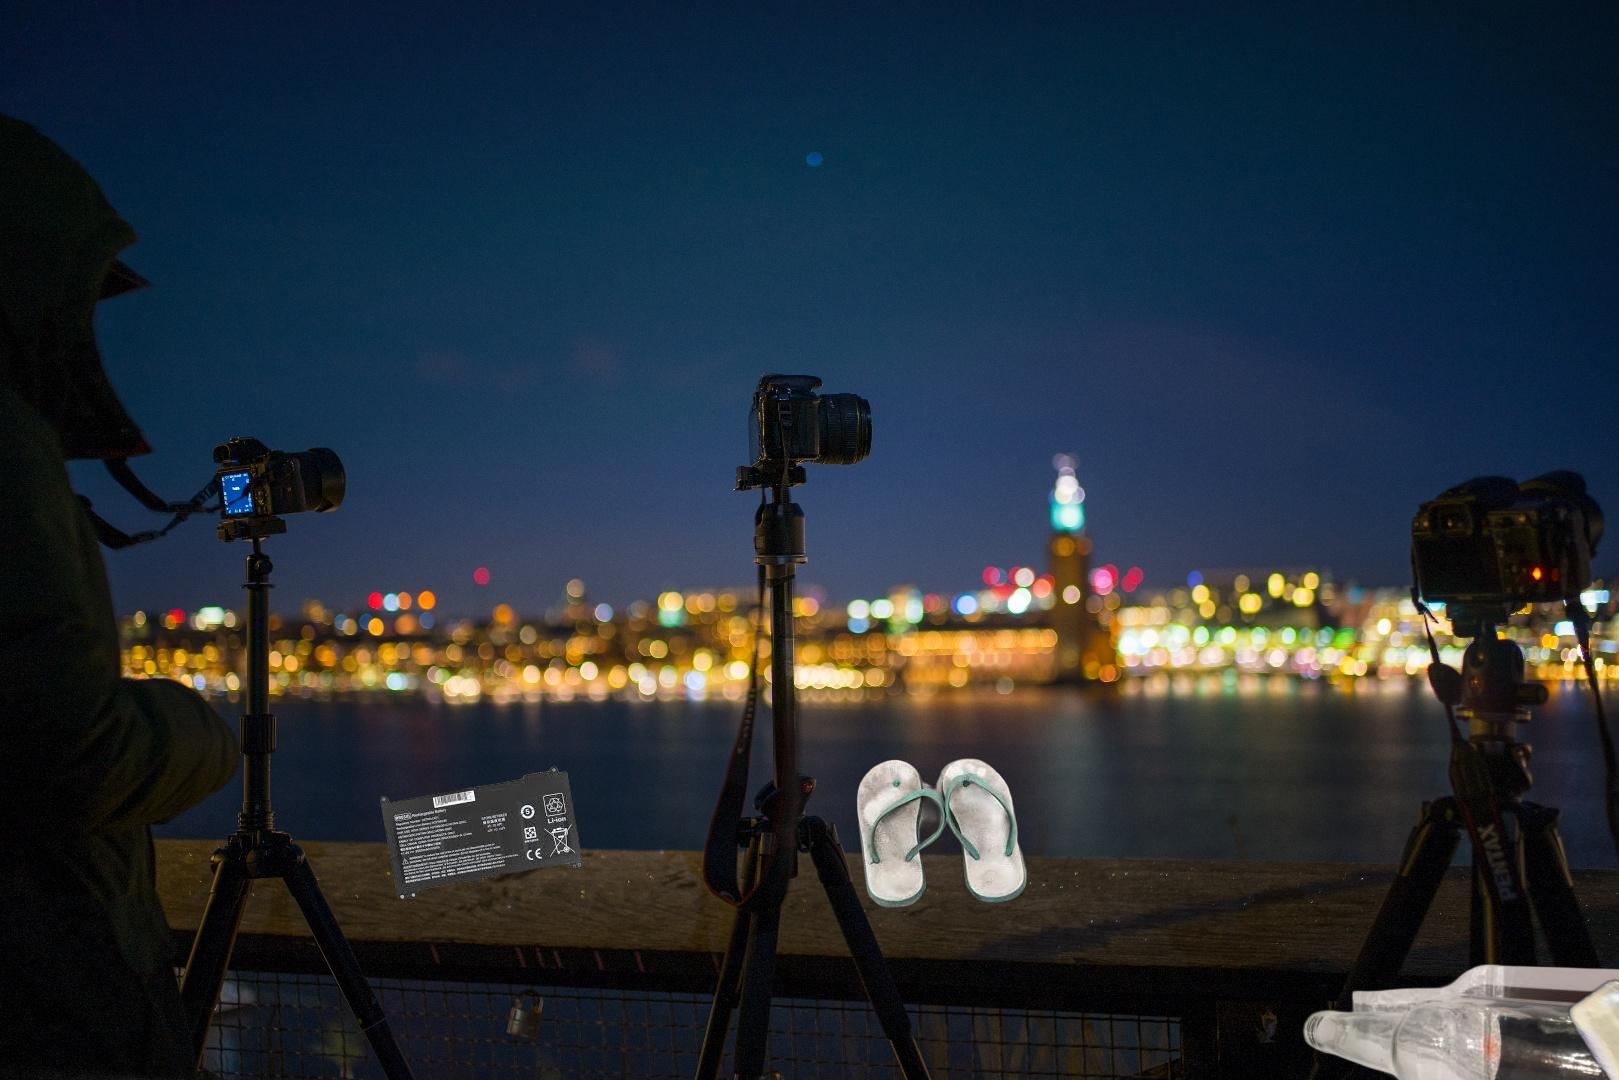battery: (377, 764, 586, 903)
glass: (1300, 959, 1619, 1080)
plastic-bottles: (1564, 974, 1619, 1080)
shoes: (854, 756, 1031, 908)
